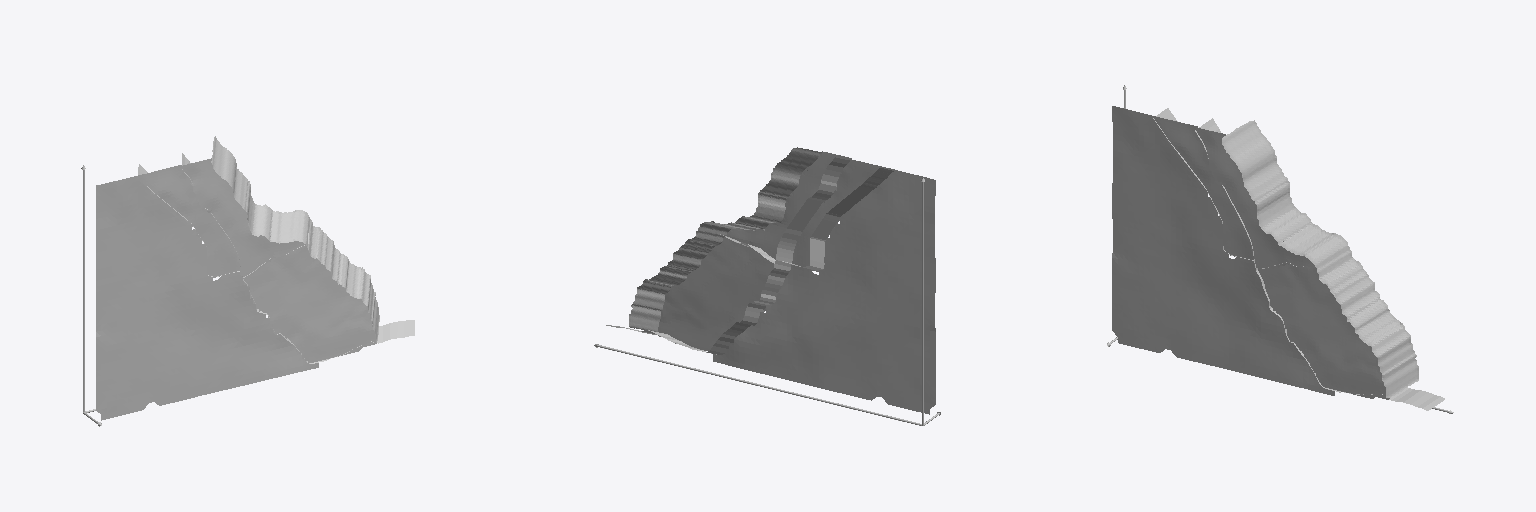
The model's file is dogmalm.obj.
The picture shows the model from 3 angles: view 1: azimuth 30°, elevation 25°; view 2: azimuth 150°, elevation 25°; view 3: azimuth 330°, elevation 25°; orthographic projection.
Size of the model in its own units: 101821 by 73447 by 10308.